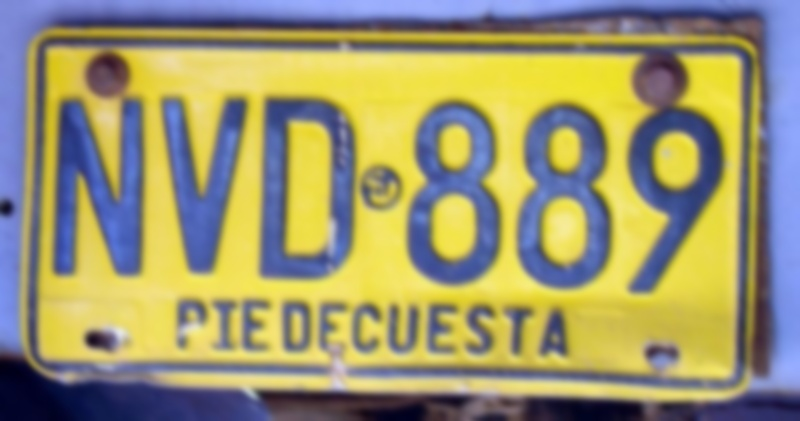placas: (15, 17, 774, 406)
